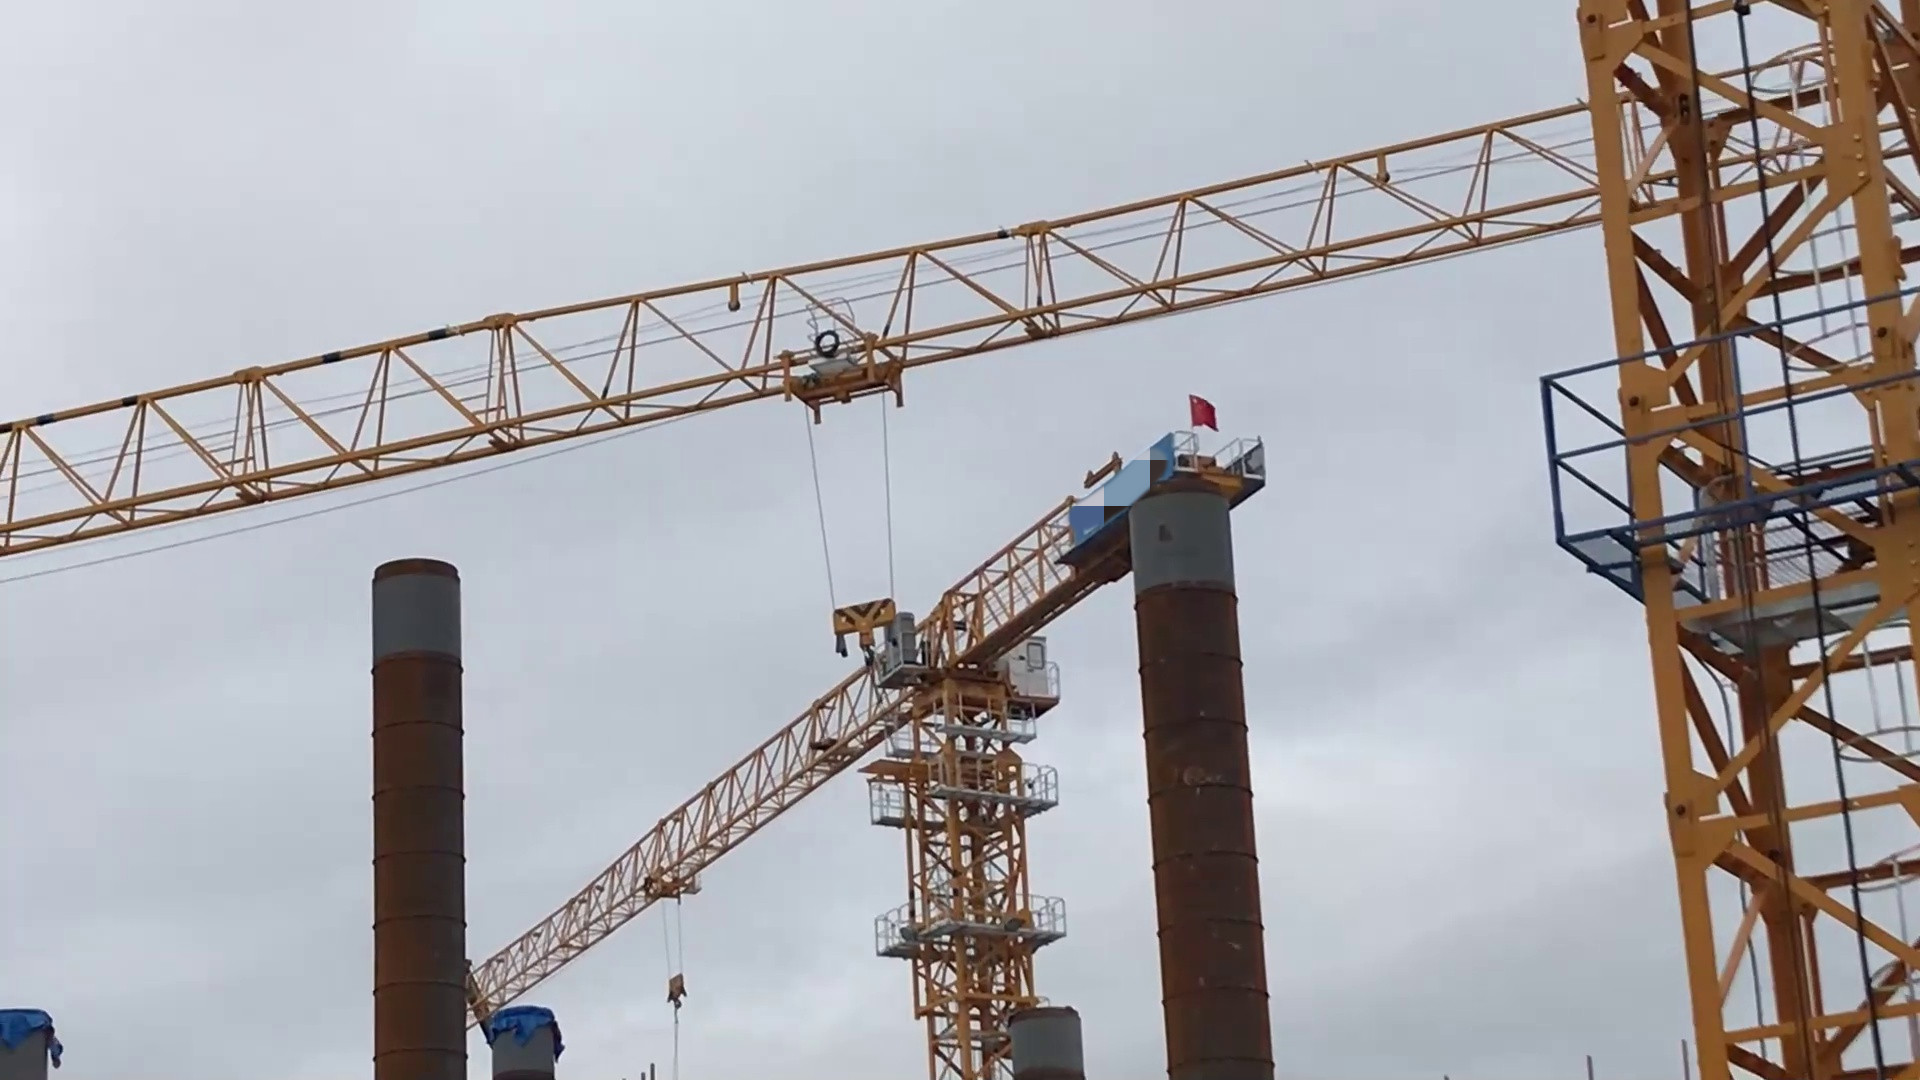hook: (823, 601, 909, 647)
